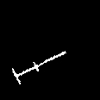double_crochet: (12, 52, 65, 83)
